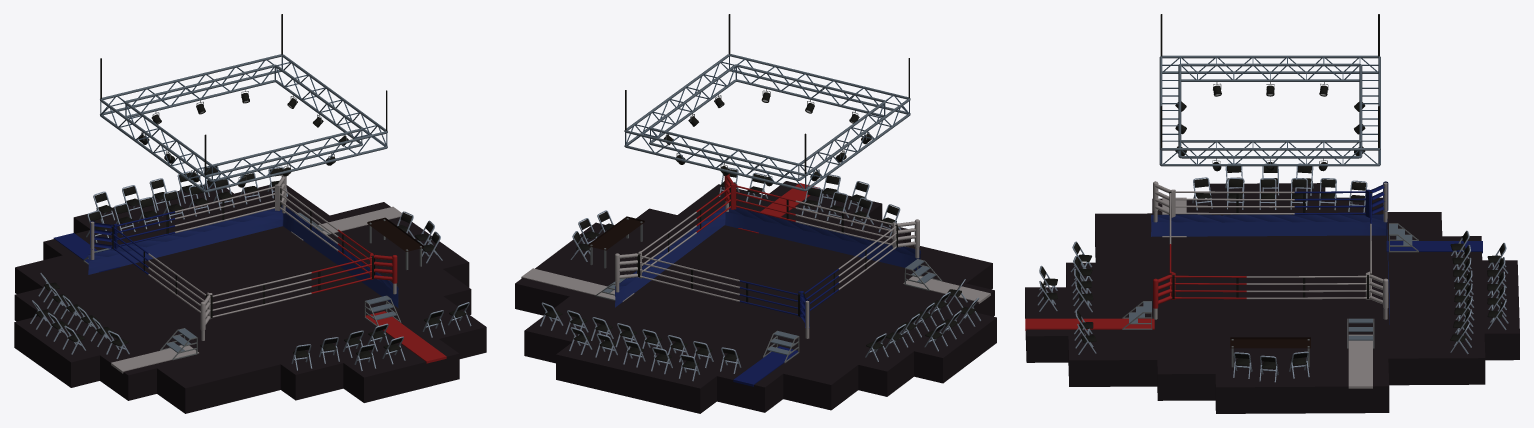
Rendered from ROBOBOXINGCLUB_Final.fbx.
3 views of the same model, side by side, from view 1: azimuth 30°, elevation 25°; view 2: azimuth 150°, elevation 25°; view 3: azimuth 270°, elevation 25° (orthographic). The views are drawn at different scales.
Visible parts, largest first — view 1: Plane.038, Cube.304, Cylinder.698, Cube.138, BezierCurve.014, Cube.301, Cube.317, Cylinder.263, Cube.144, Cube.139, Cube.140; view 2: Plane.038, Cube.304, Cylinder.698, Cube.138, BezierCurve.014, Cube.301, Cube.317, Cylinder.263, Cube.144, Cube.142, Cube.139; view 3: Plane.038, Cube.304, Cylinder.698, Cube.138, BezierCurve.014, Cube.301, Cylinder.263, Cube.317, Cube.144, Cube.141, Cube.140, Cube.142.
Boxes of the visible parts, box(x1,y1,x2,y2) form: Plane.038: box(14, 184, 486, 413); Cube.304: box(30, 166, 471, 371); Cylinder.698: box(100, 54, 387, 192); Cube.138: box(88, 205, 398, 307); BezierCurve.014: box(111, 186, 374, 317); Cube.301: box(53, 206, 446, 373); Cube.317: box(100, 57, 387, 190); Cylinder.263: box(90, 174, 397, 340); Cube.144: box(367, 217, 423, 251); Cube.139: box(159, 328, 197, 360); Cube.140: box(364, 295, 401, 326); Plane.038: box(515, 181, 996, 413); Cube.304: box(540, 167, 980, 381); Cylinder.698: box(624, 54, 910, 191); Cube.138: box(615, 205, 920, 307); BezierCurve.014: box(637, 185, 897, 316); Cube.301: box(521, 183, 990, 386); Cube.317: box(625, 56, 909, 189); Cylinder.263: box(615, 174, 919, 338); Cube.144: box(588, 216, 644, 250); Cube.142: box(763, 330, 799, 363); Cube.139: box(904, 259, 941, 290); Plane.038: box(1025, 183, 1519, 413); Cube.304: box(1037, 163, 1508, 382); Cylinder.698: box(1159, 55, 1380, 166); Cube.138: box(1151, 214, 1389, 324); BezierCurve.014: box(1169, 191, 1371, 299); Cube.301: box(1025, 197, 1482, 388); Cylinder.263: box(1153, 181, 1388, 319); Cube.317: box(1160, 57, 1380, 164); Cube.144: box(1230, 337, 1310, 348); Cube.141: box(1347, 318, 1374, 348); Cube.140: box(1122, 301, 1152, 329); Cube.142: box(1389, 223, 1418, 252).
Size of the model in its own units: 554 by 320 by 567.
